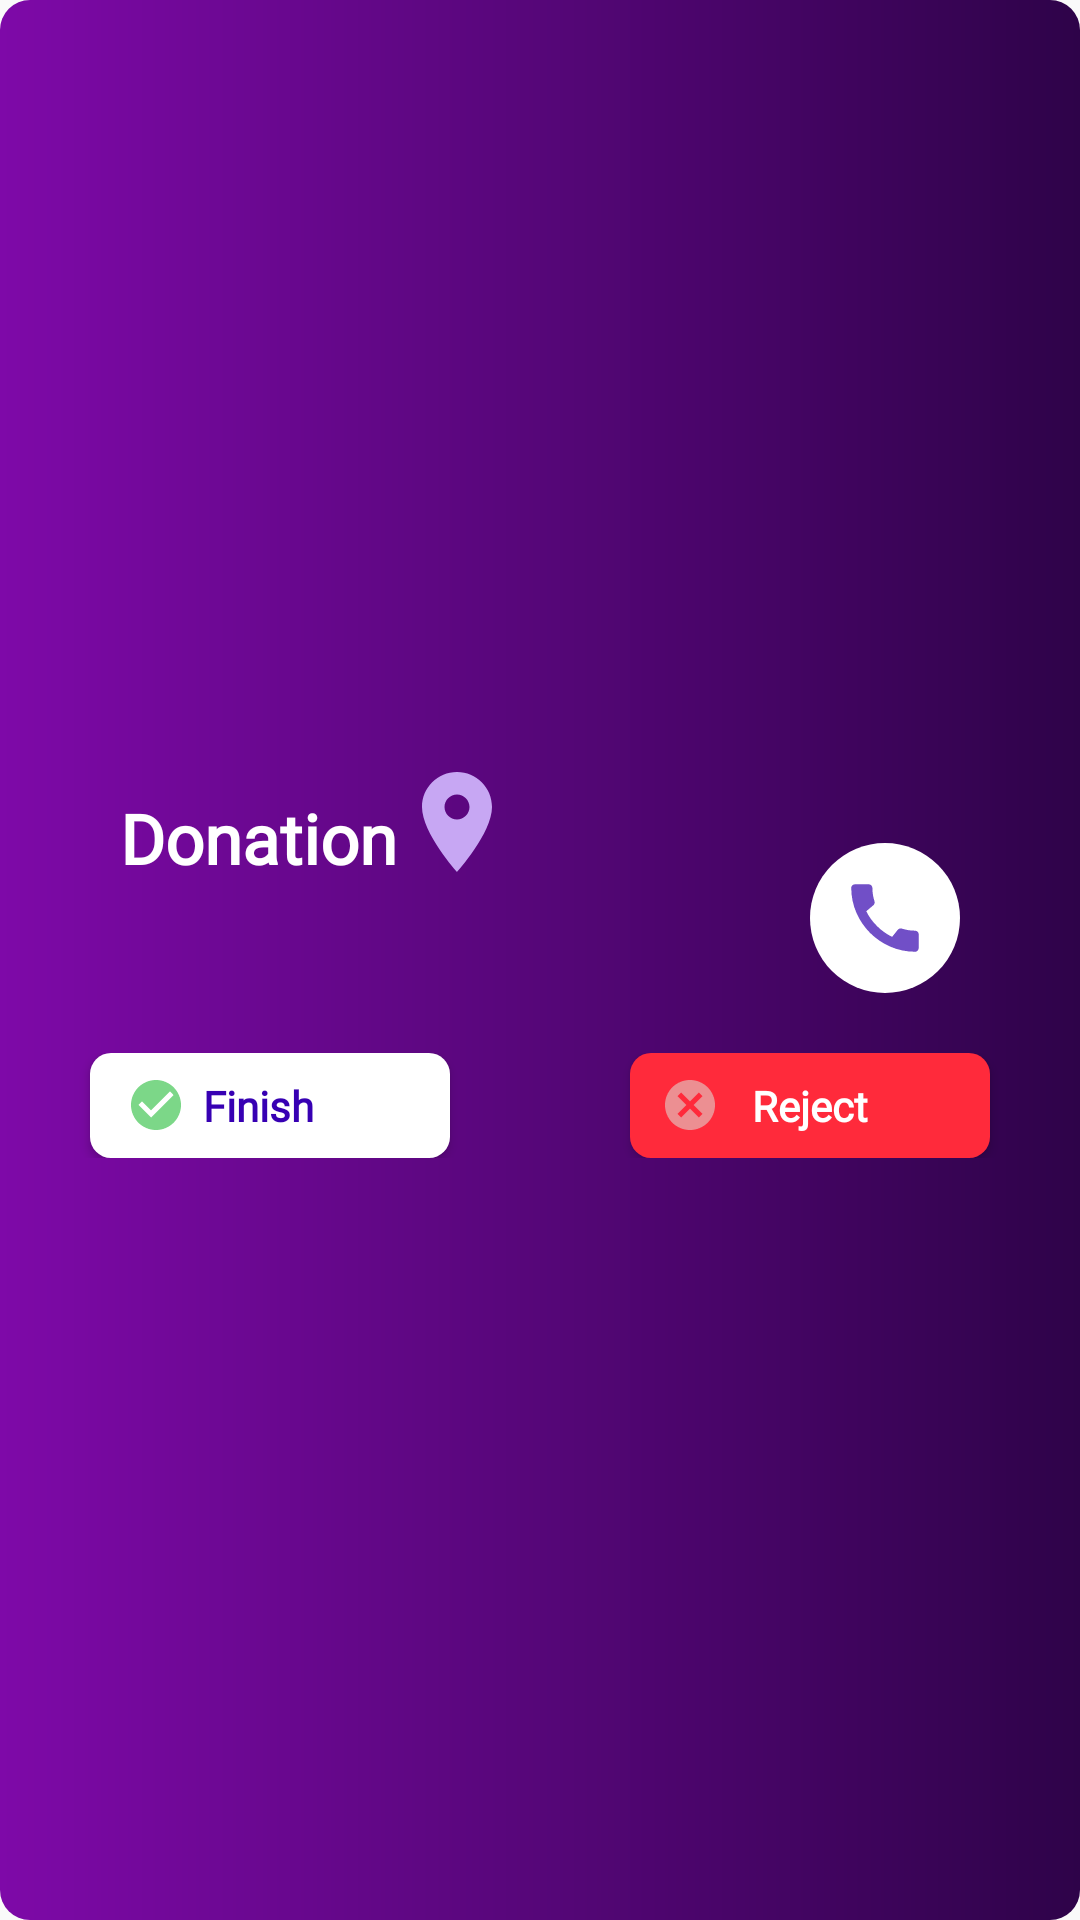

Locate icon controls on the screen. Image size 1080*1920, boxes as (x1, y1, x2, y2).
call: (810, 843, 960, 993)
location on: (422, 772, 492, 872)
